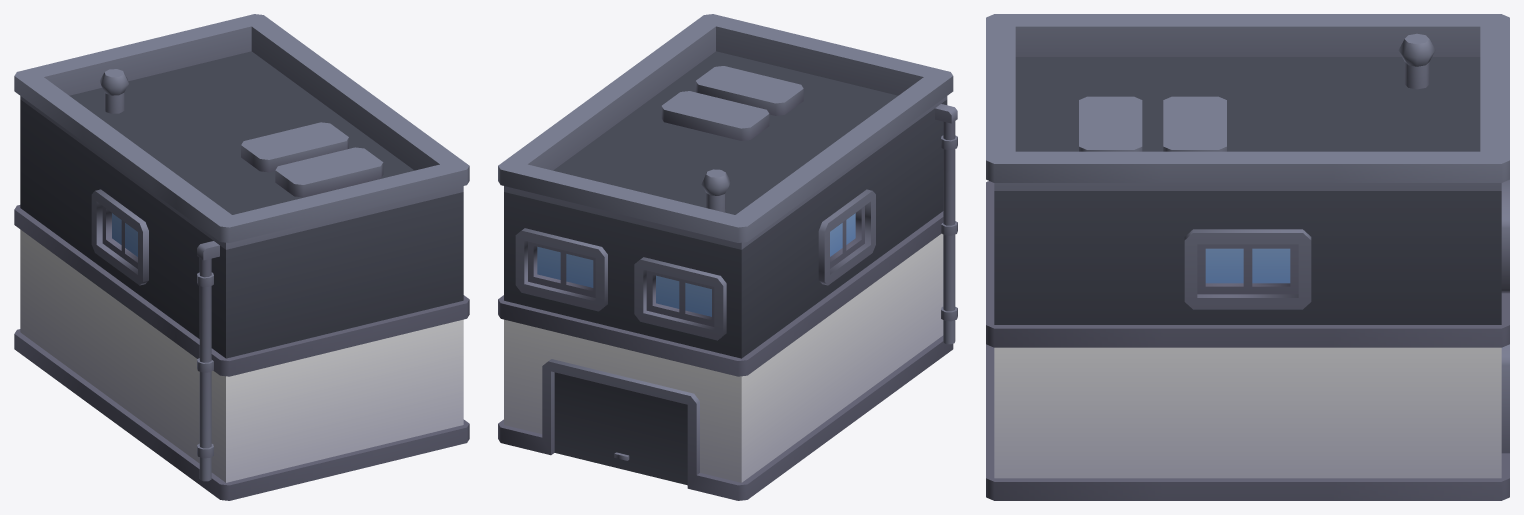
The model's file is kenney-industrial_building-o.glb.
3 renders of one model, left to right at view 1: azimuth 30°, elevation 25°; view 2: azimuth 150°, elevation 25°; view 3: azimuth 270°, elevation 25°, orthographic. The views are drawn at different scales.
Visible parts, largest first — view 1: building-o; view 2: building-o; view 3: building-o.
Part boxes in pixels (x1=…): building-o: x1=14, y1=14, x2=469, y2=500; building-o: x1=498, y1=14, x2=957, y2=500; building-o: x1=986, y1=14, x2=1509, y2=500.
Size of the model in its own units: 0.8836 by 0.918 by 1.24.
2 materials, 2 textured.
